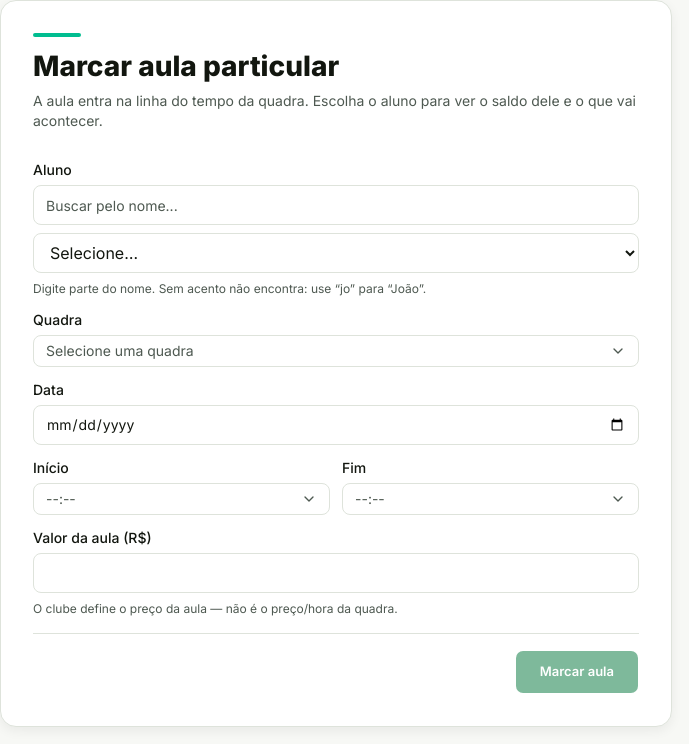
Test case: MarcarAulaParticular › quadra INATIVA nao aparece
What coordinates should you click on to do the following:
click the dropdown labelled "quadra"
I would click on:
 (120, 350)
Its box is 33,335 -> 639,367.
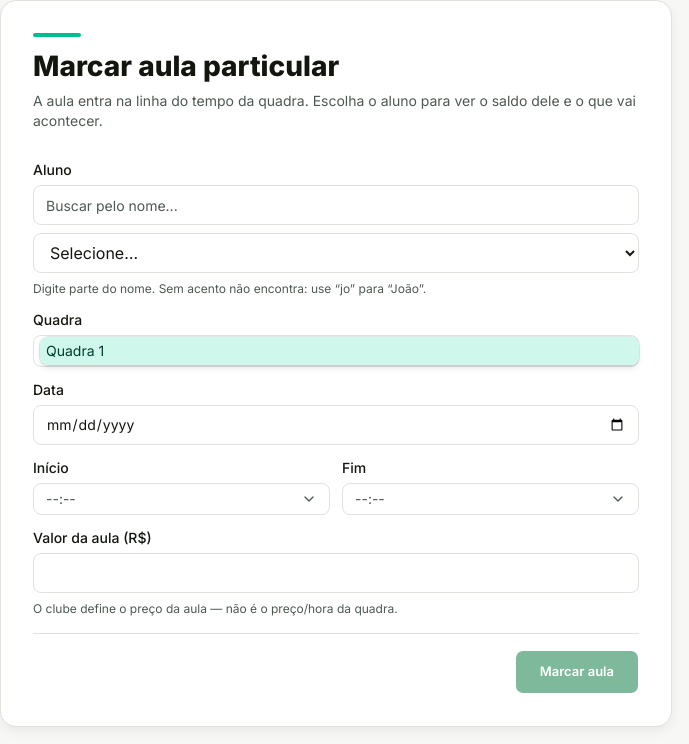
Result: the option "Quadra 1" is shown at 40,337 -> 639,365
